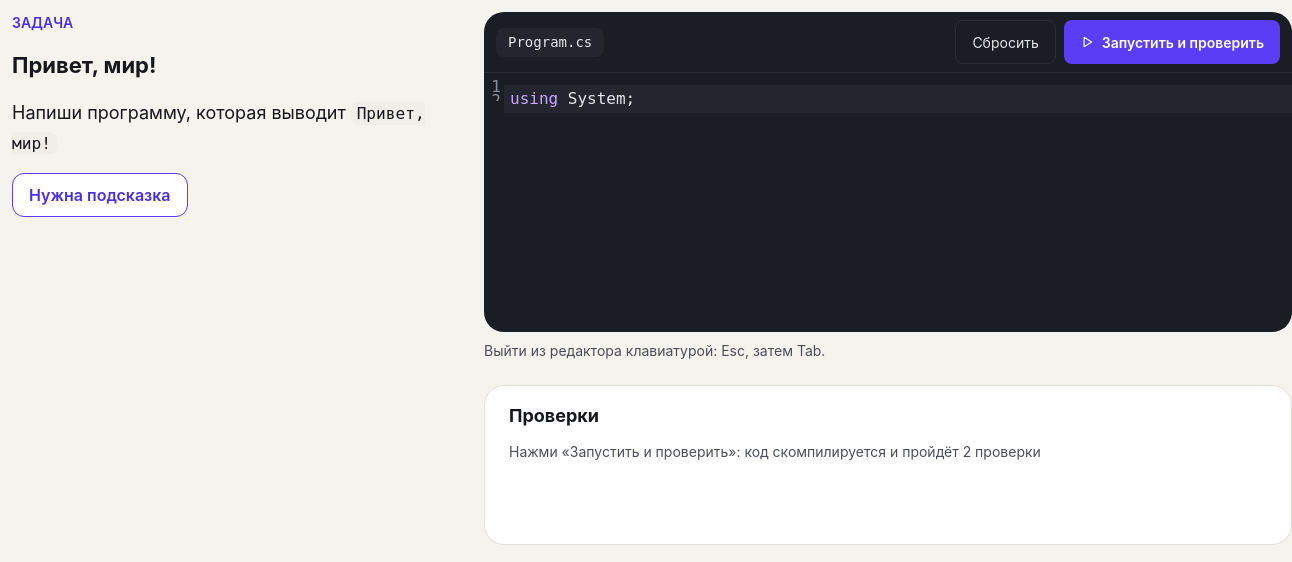
Test: LessonTask › подсказки открываются по одной, не больше трёх
Click the button "Нужна подсказка" at (100, 196), box left=12, top=174, right=188, bottom=218
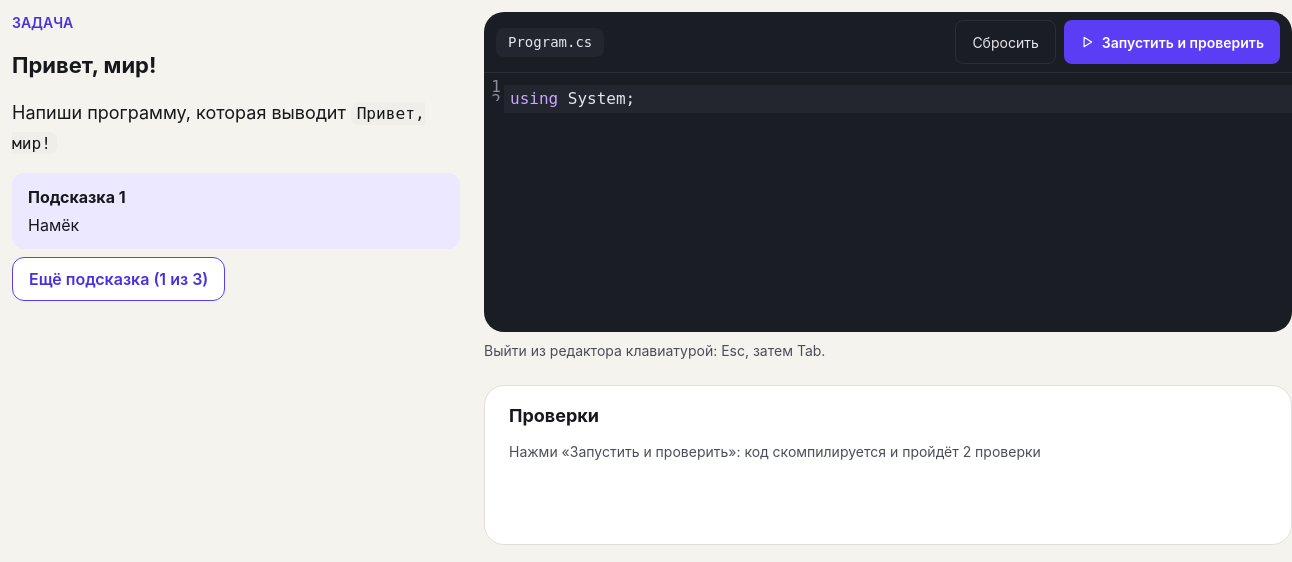
expect the button "Ещё подсказка (1 из 3)" is shown: met
Click the button "Ещё подсказка (1 из 3)" at (119, 280), box left=12, top=258, right=225, bottom=302
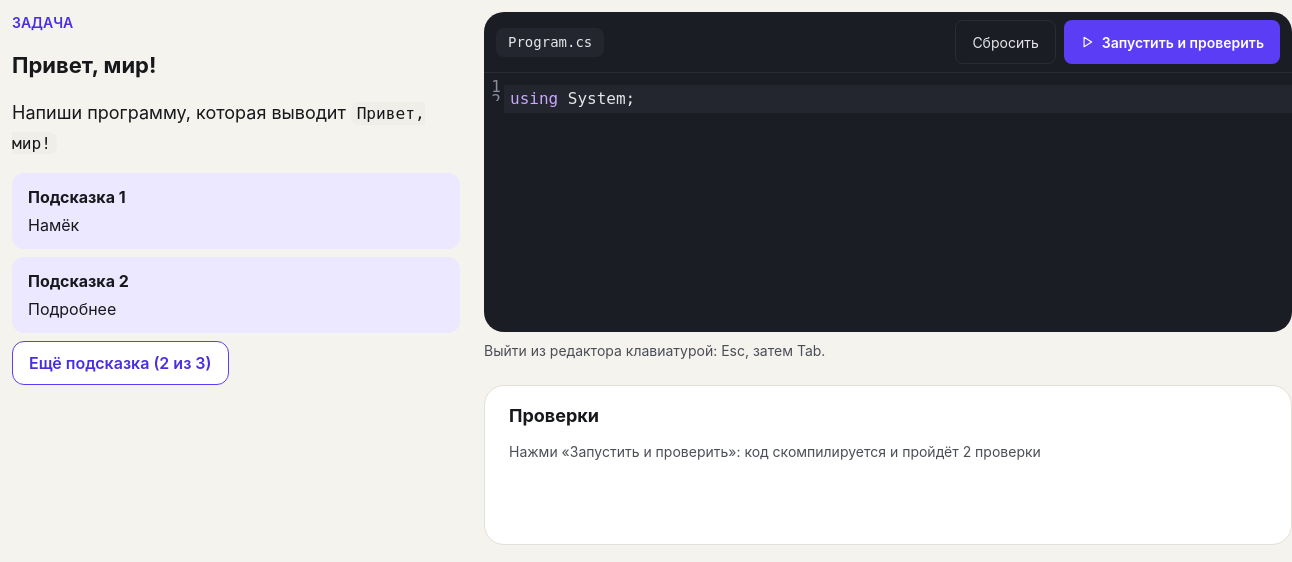
Click the button "Ещё подсказка (2 из 3)" at (120, 364), box left=12, top=342, right=228, bottom=386
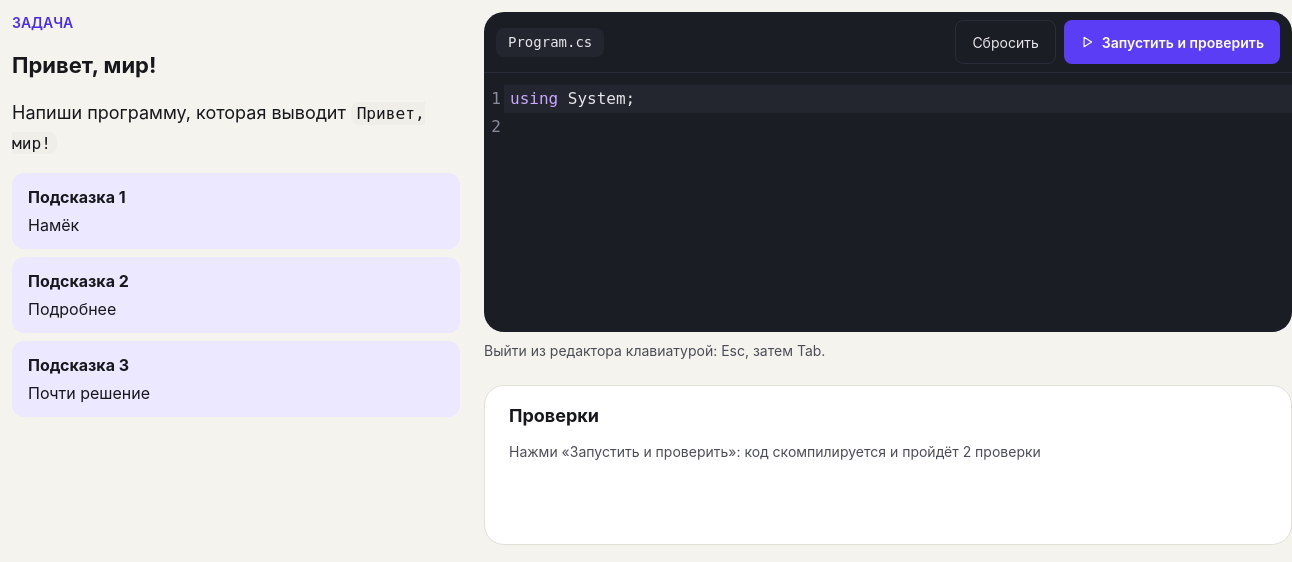
expect the text "Подсказка 3" is shown: met, box left=28, top=356, right=129, bottom=376
